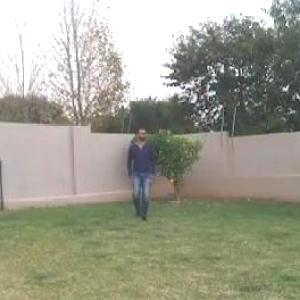follow: (130, 124, 154, 225)
